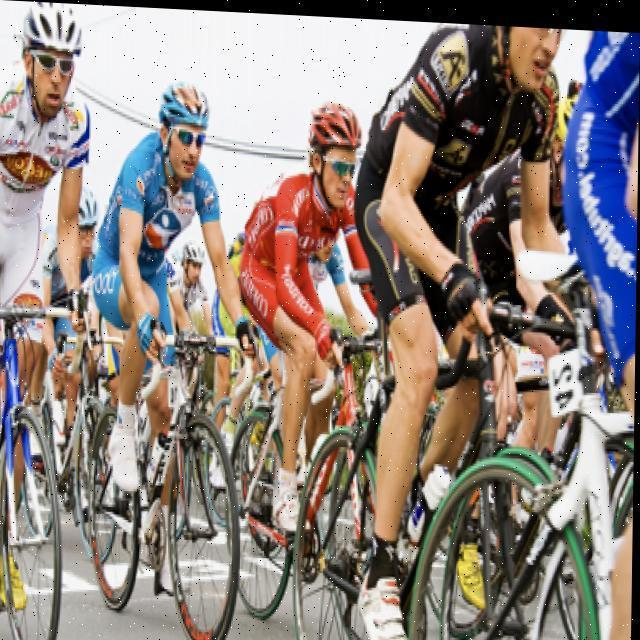Helmet: (15, 0, 88, 119), (302, 89, 367, 209), (150, 70, 218, 182)
